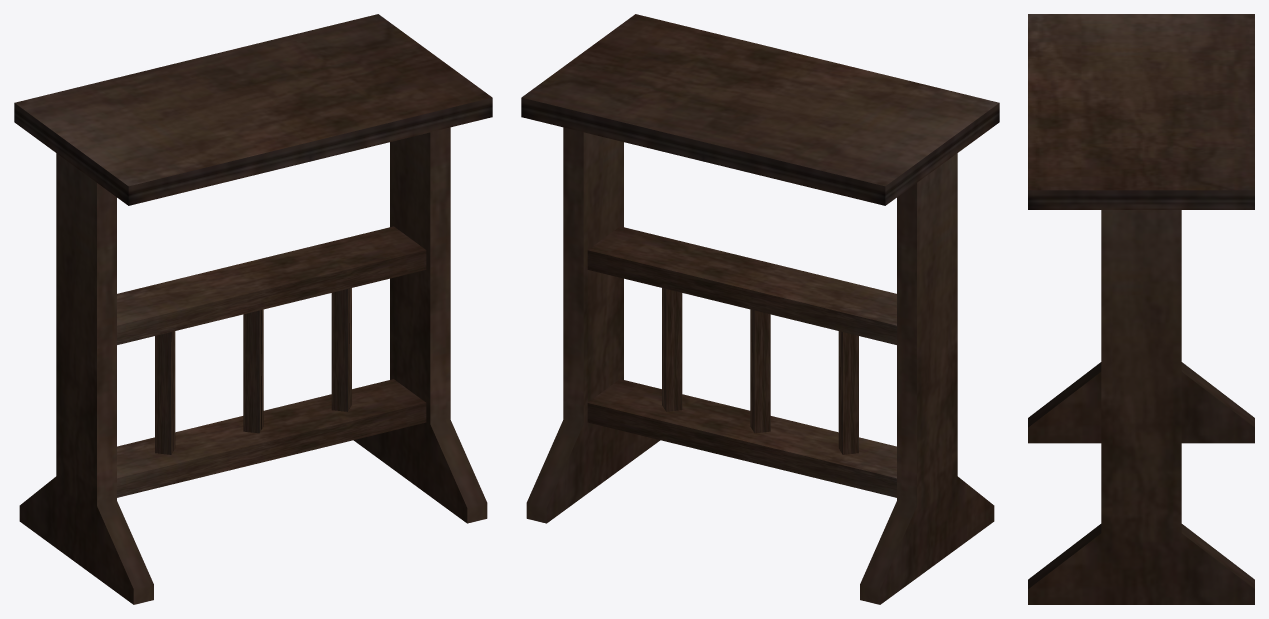
Rendered from table_barber_tools1.fbx.
3 renders of one model, left to right at view 1: azimuth 30°, elevation 25°; view 2: azimuth 150°, elevation 25°; view 3: azimuth 270°, elevation 25°, orthographic.
Parts seen in each view (by area): view 1: table_top, table_leg1, table_leg2, table_crossbeam2, table_crossbeam1, table_support3, table_support2, table_support1; view 2: table_top, table_leg1, table_leg2, table_crossbeam2, table_crossbeam1, table_support3, table_support2, table_support1; view 3: table_top, table_leg2, table_leg1.
Part boxes in pixels (x1,y1,x2,y2): table_top: (14,14,492,205); table_leg1: (19,153,153,604); table_leg2: (354,127,487,523); table_crossbeam2: (117,226,426,344); table_crossbeam1: (117,379,426,497); table_support3: (331,288,351,411); table_support2: (155,331,175,454); table_support1: (243,309,263,433); table_top: (521,14,999,205); table_leg1: (860,153,994,604); table_leg2: (526,127,659,523); table_crossbeam2: (587,226,896,344); table_crossbeam1: (587,379,896,497); table_support3: (662,288,682,411); table_support2: (838,331,858,454); table_support1: (750,309,770,433); table_top: (1028,14,1254,209); table_leg2: (1028,210,1254,604); table_leg1: (1028,362,1254,443).
Size of the model in its own units: 146 by 161 by 79.52.
Materials: 1 (1 with a texture image).
